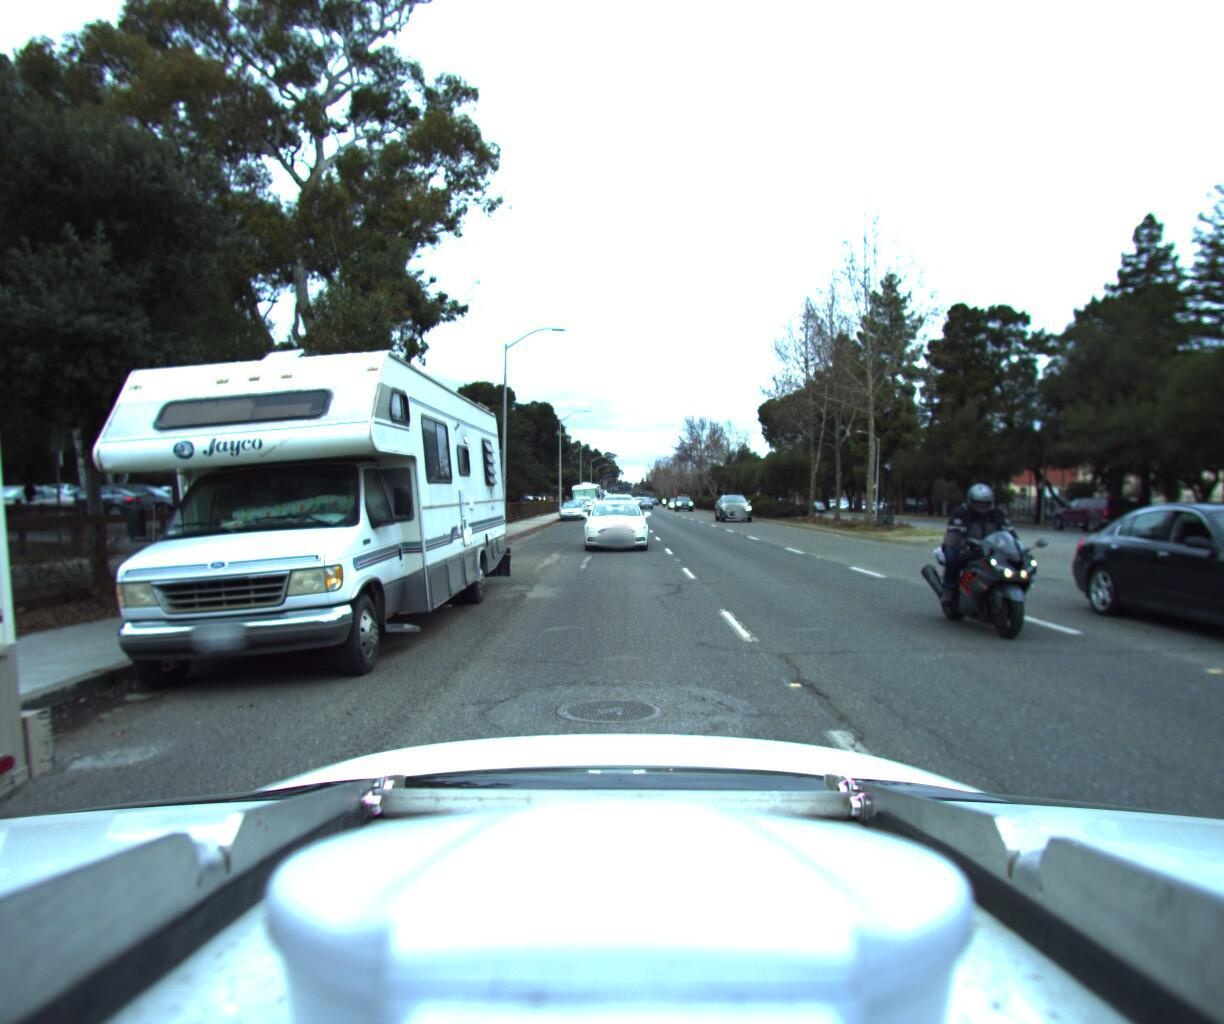car: (1107, 476, 1224, 705), (1046, 486, 1145, 526), (576, 492, 644, 550), (596, 486, 634, 518), (715, 488, 758, 515), (558, 491, 584, 513), (572, 486, 594, 507)
motorcycle: (960, 463, 1187, 680)
other_vehicle: (8, 274, 513, 708), (567, 471, 603, 505)
